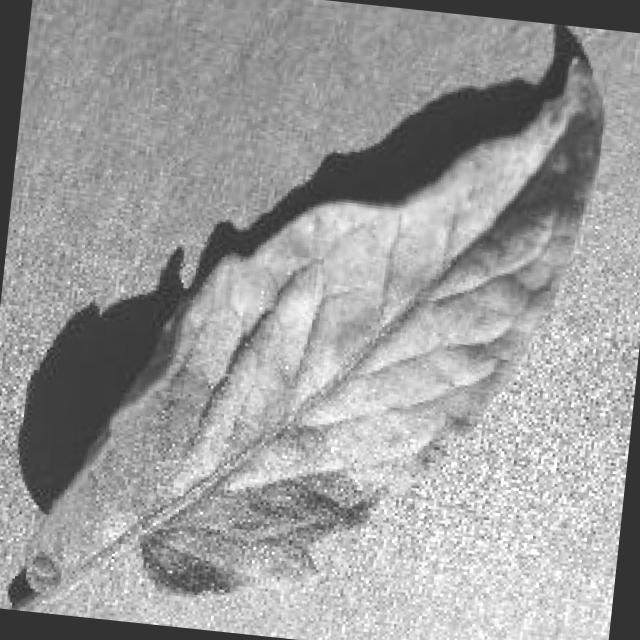leaf mold: (0, 44, 601, 613)
